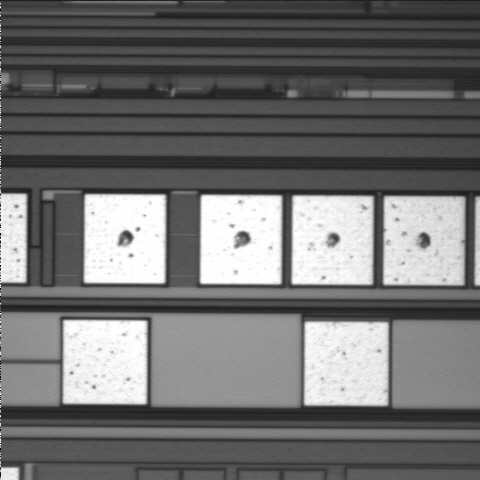pad: (84, 194, 166, 284), (200, 195, 282, 284), (292, 196, 373, 285), (383, 196, 464, 285), (63, 320, 147, 404), (304, 322, 388, 406)
